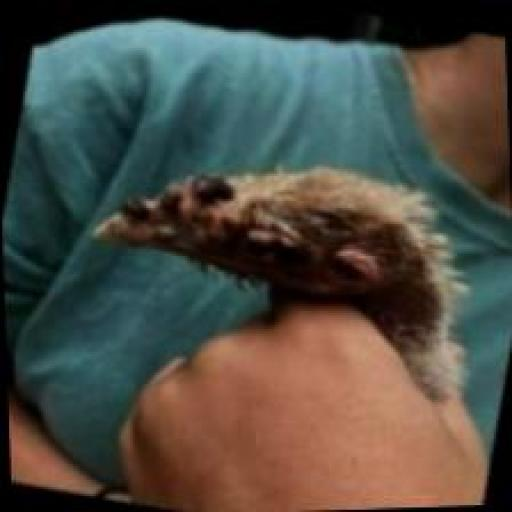disease: (59, 140, 341, 288)
